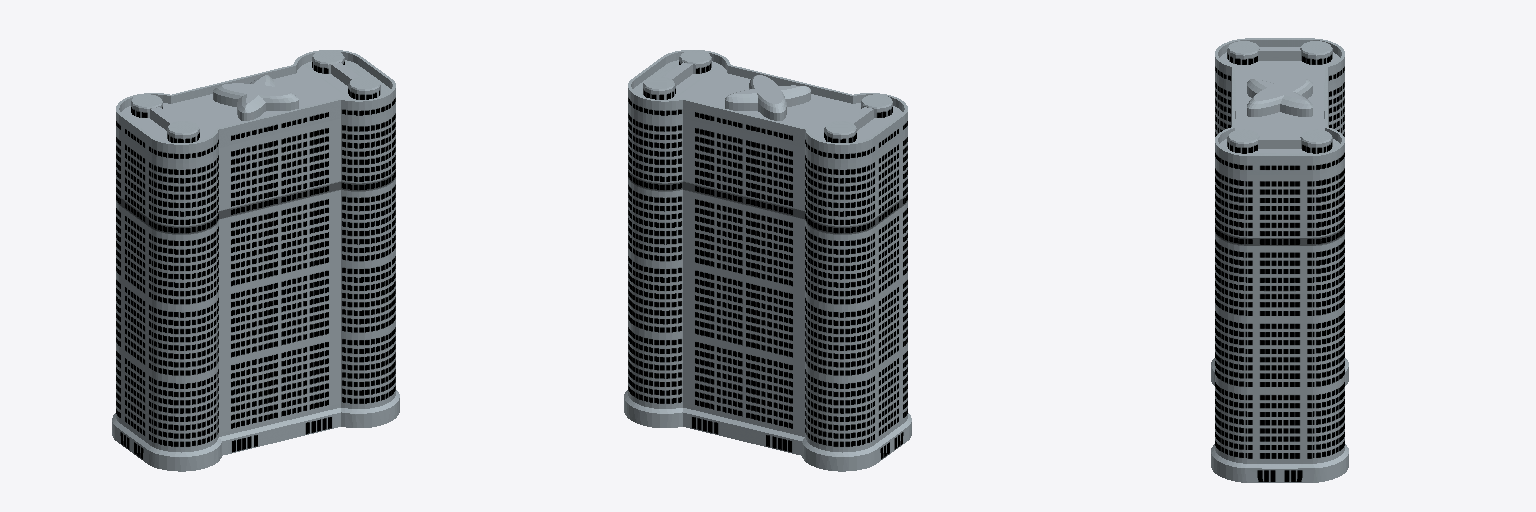
3 renders of one model, left to right at view 1: azimuth 30°, elevation 25°; view 2: azimuth 150°, elevation 25°; view 3: azimuth 270°, elevation 25°, orthographic.
Visible parts, largest first — view 1: 1; view 2: 1; view 3: 1.
Part boxes in pixels (bbox=[...]): 1: bbox=[112, 50, 399, 471]; 1: bbox=[624, 50, 911, 471]; 1: bbox=[1211, 38, 1348, 482].
Size of the model in its own units: 334 by 427 by 161.
1 materials, 1 textured.